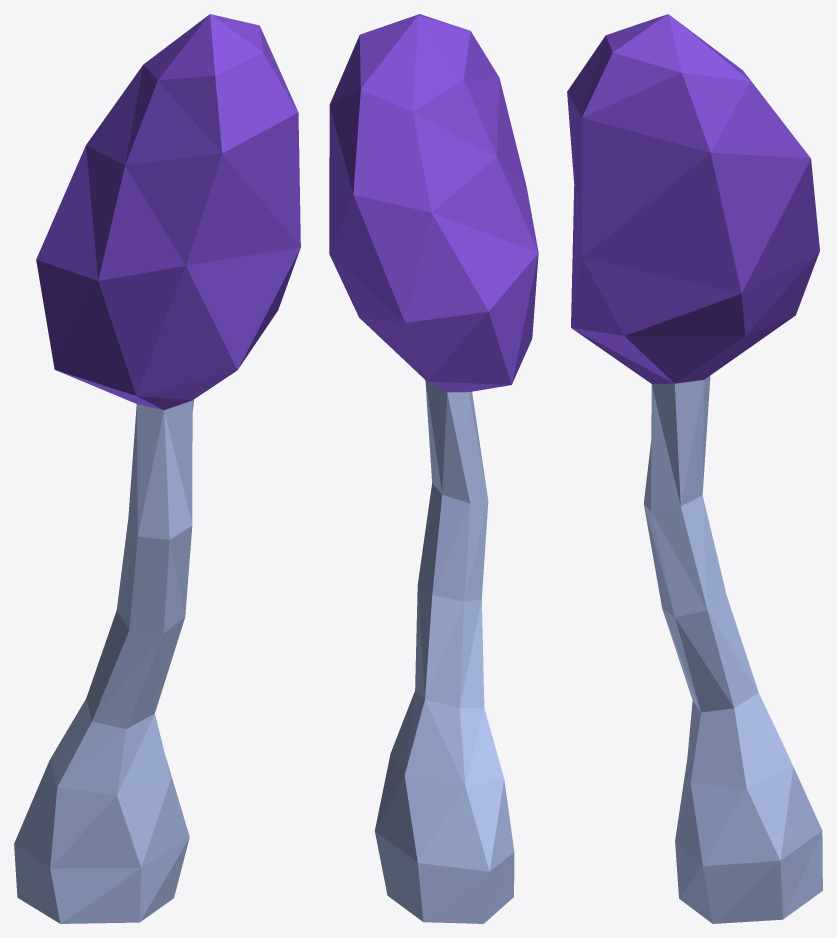
Rendered from Mushroom 1_4.fbx.
3 views of the same model, side by side, from view 1: azimuth 30°, elevation 25°; view 2: azimuth 150°, elevation 25°; view 3: azimuth 270°, elevation 25° (orthographic). The views are drawn at different scales.
Parts seen in each view (by area): view 1: Mushroom 1_4; view 2: Mushroom 1_4; view 3: Mushroom 1_4.
Part boxes in pixels (x1,y1,x2,y2): Mushroom 1_4: (14, 14, 300, 923); Mushroom 1_4: (329, 14, 538, 923); Mushroom 1_4: (567, 14, 822, 923).
Bounding box in the file's own units: 0.0843 × 0.3431 × 0.0867.
